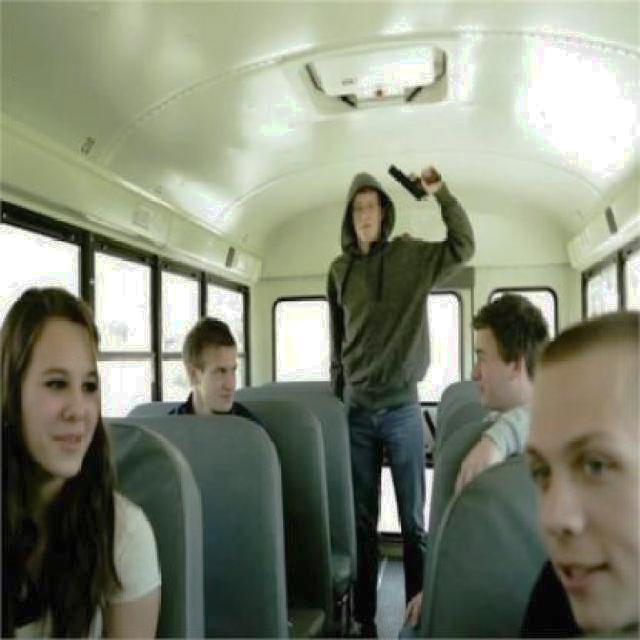Gun: (385, 157, 448, 208)
